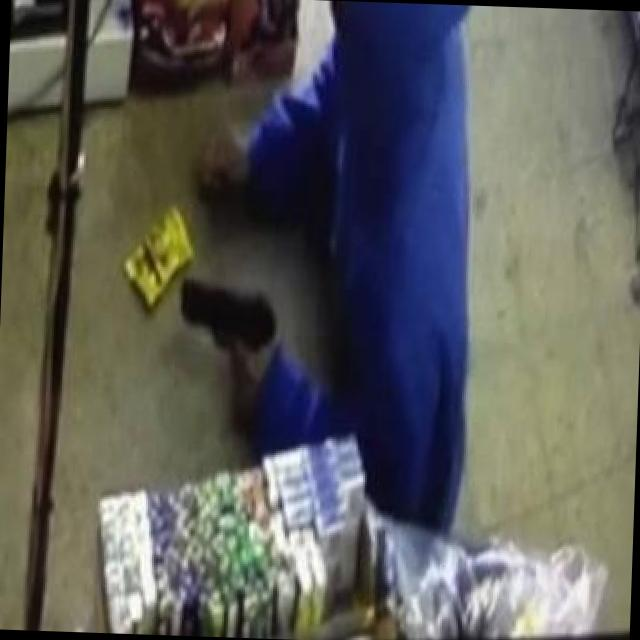Guns: (156, 251, 296, 400)
